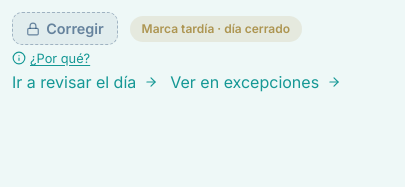
Scenario: AvisoBloqueoCorreccion › dia_cerrado_pendiente: etiqueta corta y mensaje fijo del backend
expect the text "Marca tardía · día cerrado" is shown: met, box x1=130 y1=16 x2=302 y2=42
Click the button "¿Por qué?" at (51, 58), box x1=12 y1=51 x2=90 y2=66
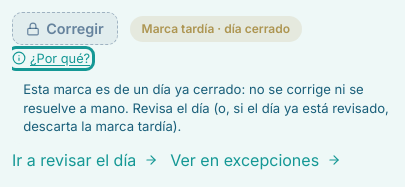
expect the text "Esta marca es de un día ya cerrado: no se corrige ni se resuelve a mano. Revisa el día (o, si el día ya está revisado, d" is shown: met, box x1=23 y1=81 x2=389 y2=134
